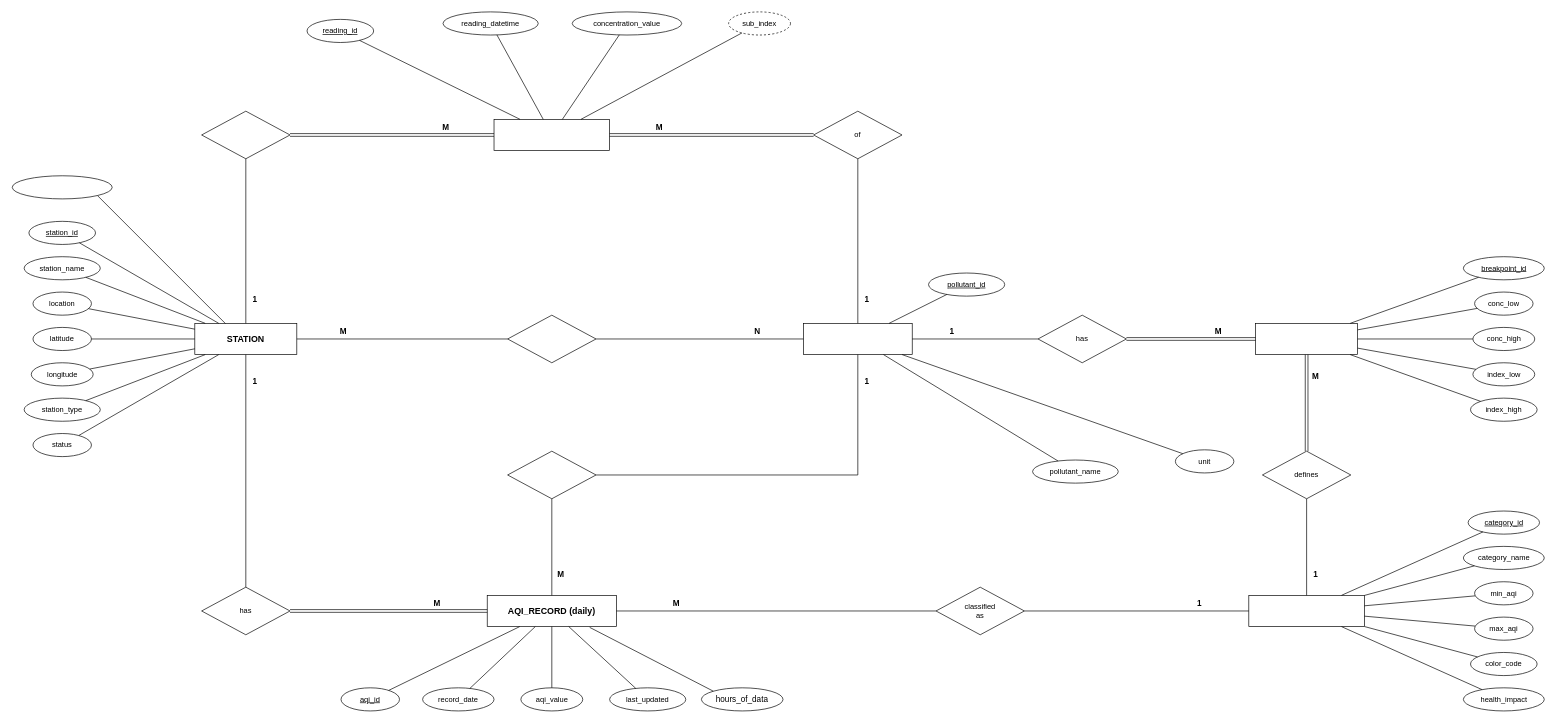
Some shapes in this 1556 by 723 pixel diagram are drawn without their labels. Here are the shapes that lost their labels. From the top down, the centre of each, then its label:
At point 245,135: "records".
At point 551,135: "READING (hourly)".
At point 62,187: "installation_date".
At point 551,338: "measures".
At point 857,339: "POLLUTANT".
At point 1306,339: "BREAKPOINT".
At point 551,475: "prominent in".
At point 1306,611: "AQI_CATEGORY".
